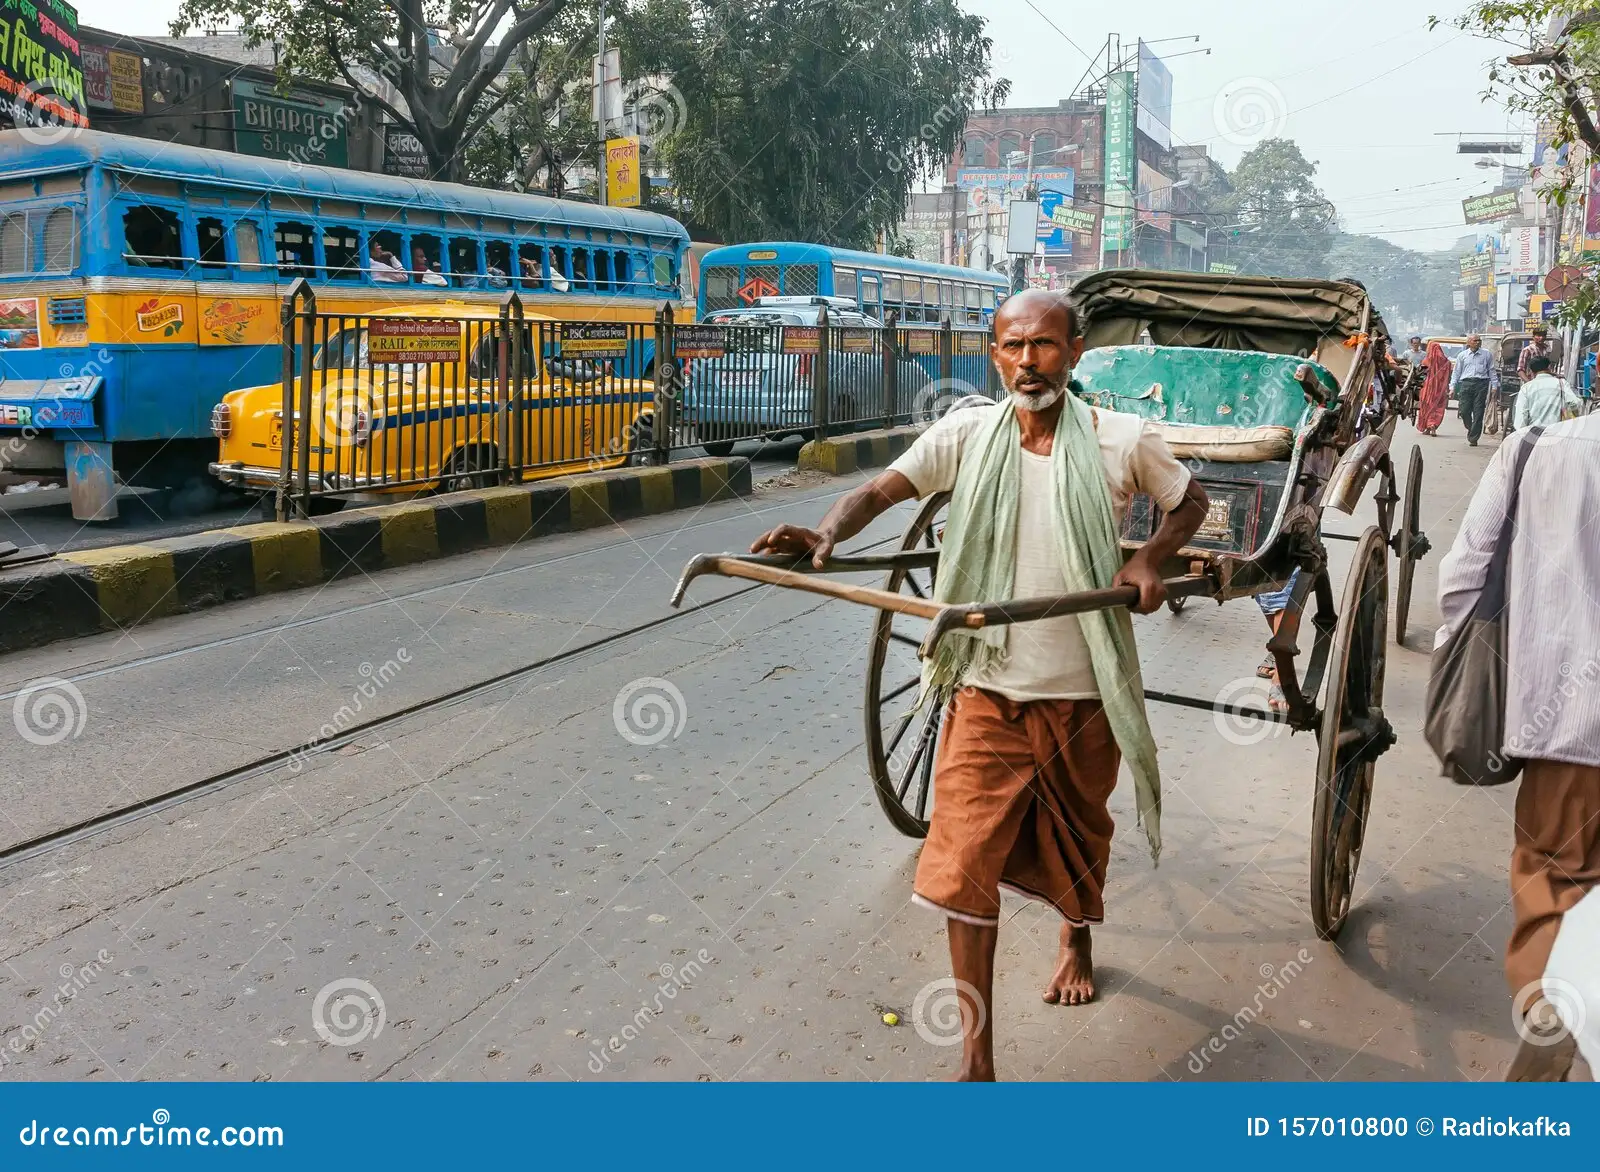person: (987, 289, 1077, 423)
